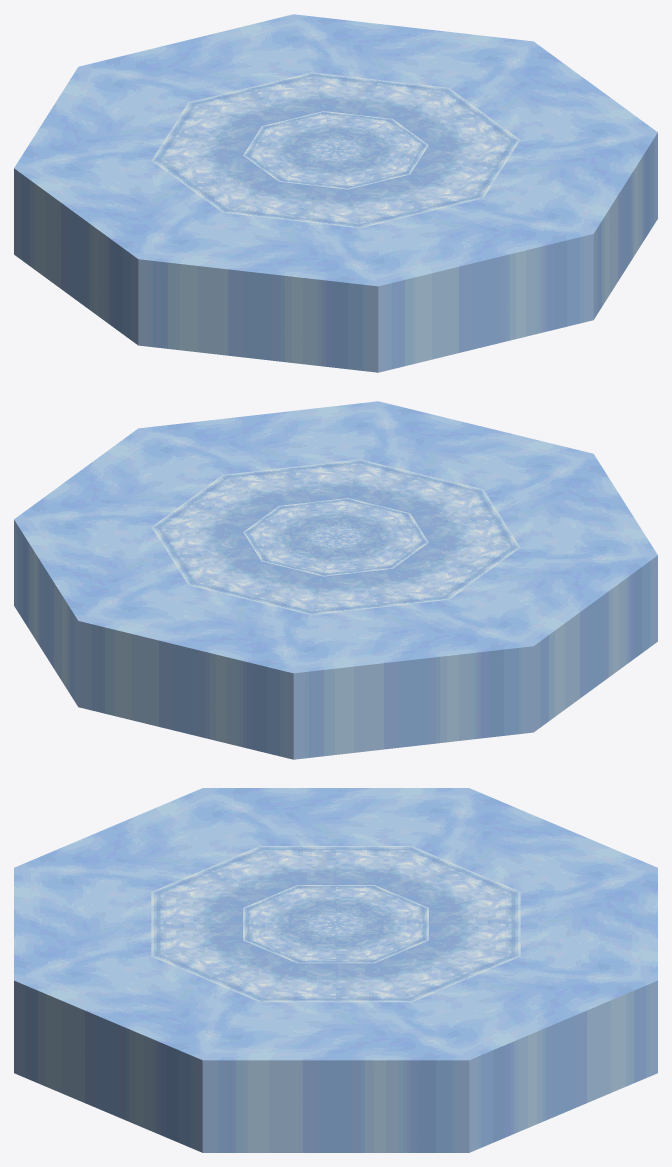
File: ewb_ice_a.obj
3 renders of one model, top to bottom at view 1: azimuth 30°, elevation 25°; view 2: azimuth 150°, elevation 25°; view 3: azimuth 270°, elevation 25°, orthographic. The views are drawn at different scales.
Visible parts, largest first — view 1: world_root; view 2: world_root; view 3: world_root.
Part boxes in pixels (bbox=[...]): world_root: bbox=[14, 14, 657, 372]; world_root: bbox=[14, 401, 657, 759]; world_root: bbox=[14, 788, 657, 1152].
Size of the model in its own units: 394 by 62.5 by 394.
